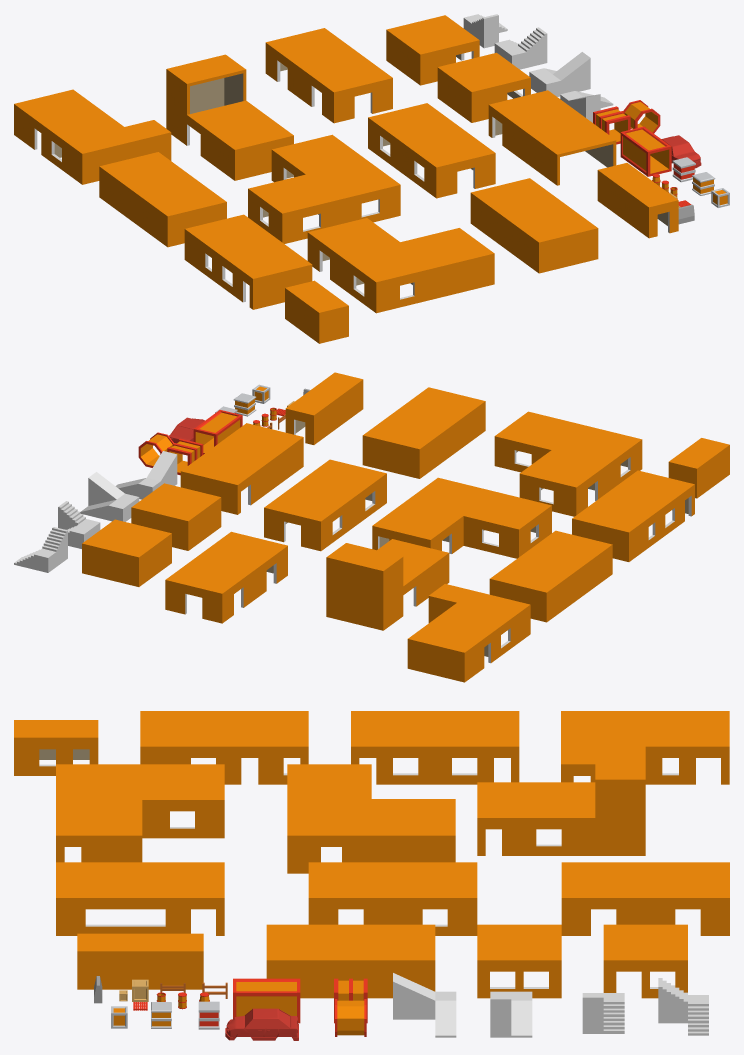
File: buildings.glb
3 renders of one model, top to bottom at view 1: azimuth 30°, elevation 25°; view 2: azimuth 150°, elevation 25°; view 3: azimuth 270°, elevation 25°, orthographic. The views are drawn at different scales.
Visible parts, largest first — view 1: room_B3, room_B4, room2-A1, room_C1, room_A6, room_A8, room_B1, room_A7, room_B2, room_A3, room_A4, room_A5 (+10 smaller); view 2: room_B3, room_B4, room2-A1, room_C1, room_A6, room_A8, room_B2, room_A7, room_B1, room_A3, room_A5, room_A4 (+10 smaller); view 3: room_B3, room_B4, room2-A1, room_A3, room_B2, room_A7, room_A6, room_A8, room_B1, room_C1, room_A2, room_A4 (+12 smaller).
Part boxes in pixels (x1=…): room_B3: x1=307, y1=218, x2=494, y2=313; room_B4: x1=248, y1=134, x2=400, y2=243; room2-A1: x1=166, y1=54, x2=293, y2=180; room_C1: x1=14, y1=89, x2=171, y2=184; room_A6: x1=470, y1=178, x2=598, y2=273; room_A8: x1=368, y1=103, x2=495, y2=198; room_B1: x1=184, y1=214, x2=312, y2=309; room_A7: x1=265, y1=28, x2=392, y2=123; room_B2: x1=99, y1=152, x2=226, y2=247; room_A3: x1=488, y1=90, x2=616, y2=185; room_A4: x1=437, y1=52, x2=530, y2=122; room_A5: x1=386, y1=15, x2=479, y2=85; room_B3: x1=494, y1=411, x2=642, y2=516; room_B4: x1=372, y1=477, x2=551, y2=558; room2-A1: x1=326, y1=539, x2=449, y2=630; room_C1: x1=407, y1=584, x2=530, y2=682; room_A6: x1=362, y1=387, x2=485, y2=478; room_A8: x1=264, y1=459, x2=386, y2=551; room_B2: x1=489, y1=530, x2=612, y2=622; room_A7: x1=165, y1=531, x2=287, y2=623; room_B1: x1=572, y1=470, x2=694, y2=561; room_A3: x1=180, y1=423, x2=303, y2=514; room_A5: x1=82, y1=519, x2=171, y2=586; room_A4: x1=131, y1=483, x2=221, y2=550; room_B3: x1=56, y1=764, x2=224, y2=862; room_B4: x1=287, y1=764, x2=455, y2=873; room2-A1: x1=477, y1=744, x2=645, y2=855; room_A3: x1=266, y1=924, x2=435, y2=998; room_B2: x1=351, y1=711, x2=519, y2=784; room_A7: x1=561, y1=862, x2=729, y2=935; room_A6: x1=56, y1=862, x2=224, y2=935; room_A8: x1=308, y1=862, x2=477, y2=935; room_B1: x1=140, y1=711, x2=308, y2=784; room_C1: x1=561, y1=711, x2=729, y2=784; room_A2: x1=77, y1=933, x2=203, y2=989; room_A4: x1=477, y1=924, x2=561, y2=998.
Size of the model in its own units: 16.42 by 2 by 17.
